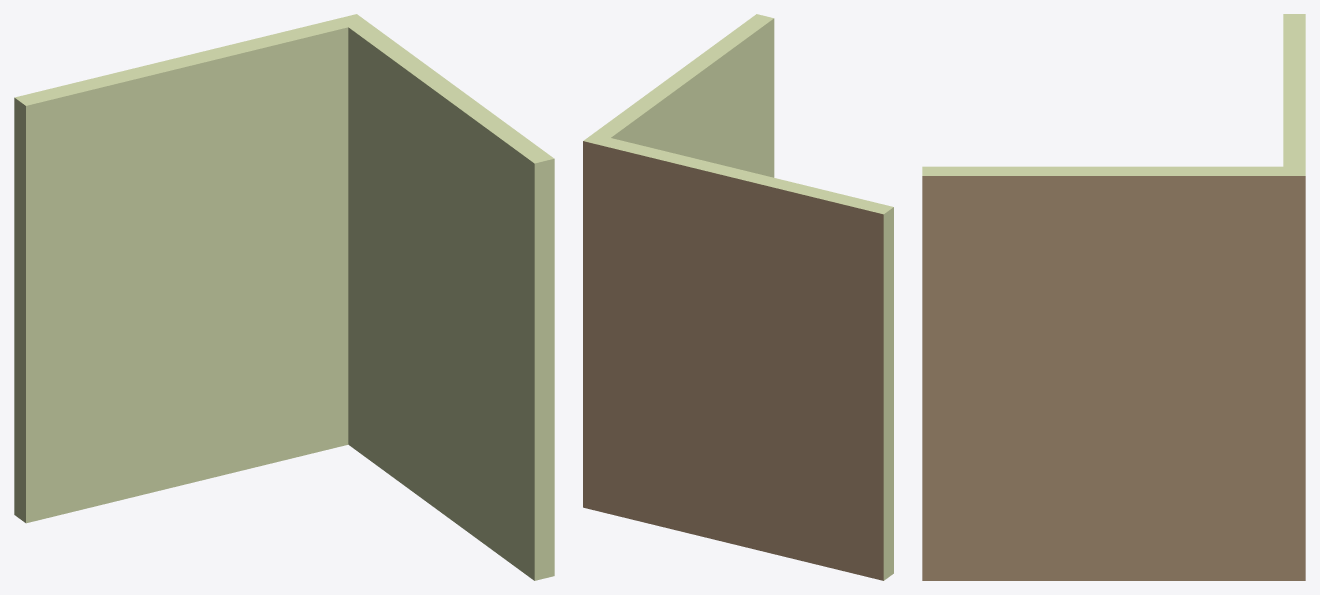
File: Wall2_C5_06.fbx
The picture shows the model from 3 angles, left to right: view 1: azimuth 30°, elevation 25°; view 2: azimuth 150°, elevation 25°; view 3: azimuth 270°, elevation 25°; orthographic projection. The views are drawn at different scales.
Parts seen in each view (by area): view 1: Wall2_C5_06; view 2: Wall2_C5_06; view 3: Wall2_C5_06.
Boxes of the visible parts, left/top/right/bottom form: Wall2_C5_06: left=14, top=14, right=554, bottom=580; Wall2_C5_06: left=583, top=14, right=893, bottom=580; Wall2_C5_06: left=922, top=14, right=1305, bottom=580.
Size of the model in its own units: 258 by 300 by 258.
